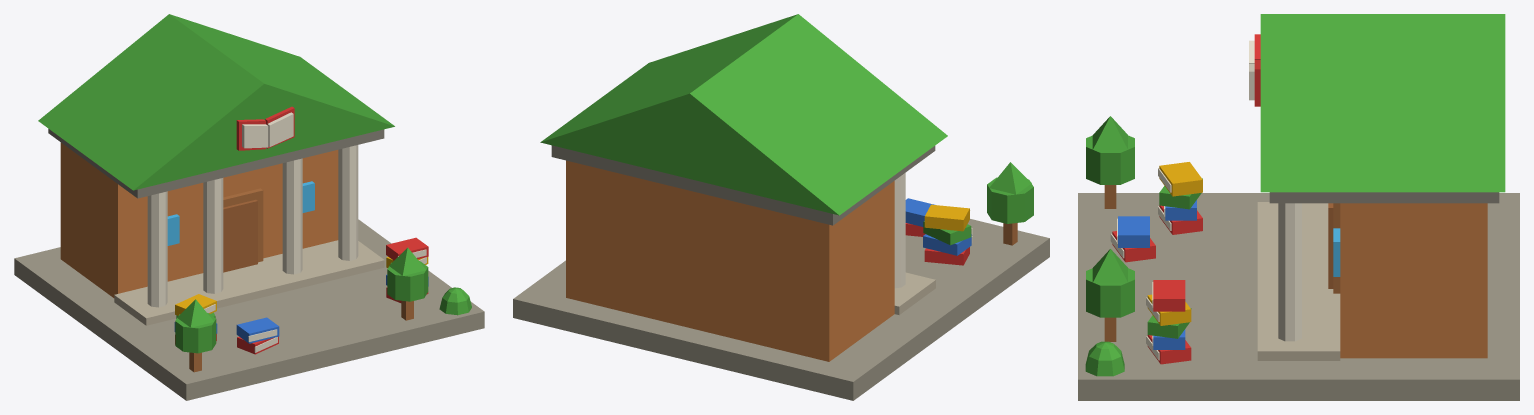
The model's file is library_t2_v2.glb.
3 renders of one model, left to right at view 1: azimuth 30°, elevation 25°; view 2: azimuth 150°, elevation 25°; view 3: azimuth 270°, elevation 25°, orthographic. The views are drawn at different scales.
Visible parts, largest first — view 1: library_t2_v2; view 2: library_t2_v2; view 3: library_t2_v2.
Part boxes in pixels (x1,y1,x2,y2): library_t2_v2: (14,14,484,400); library_t2_v2: (513,14,1049,400); library_t2_v2: (1078,14,1519,400).
Bounding box in the file's own units: 0.75 × 0.55 × 0.75.
1 material, 1 textured.
